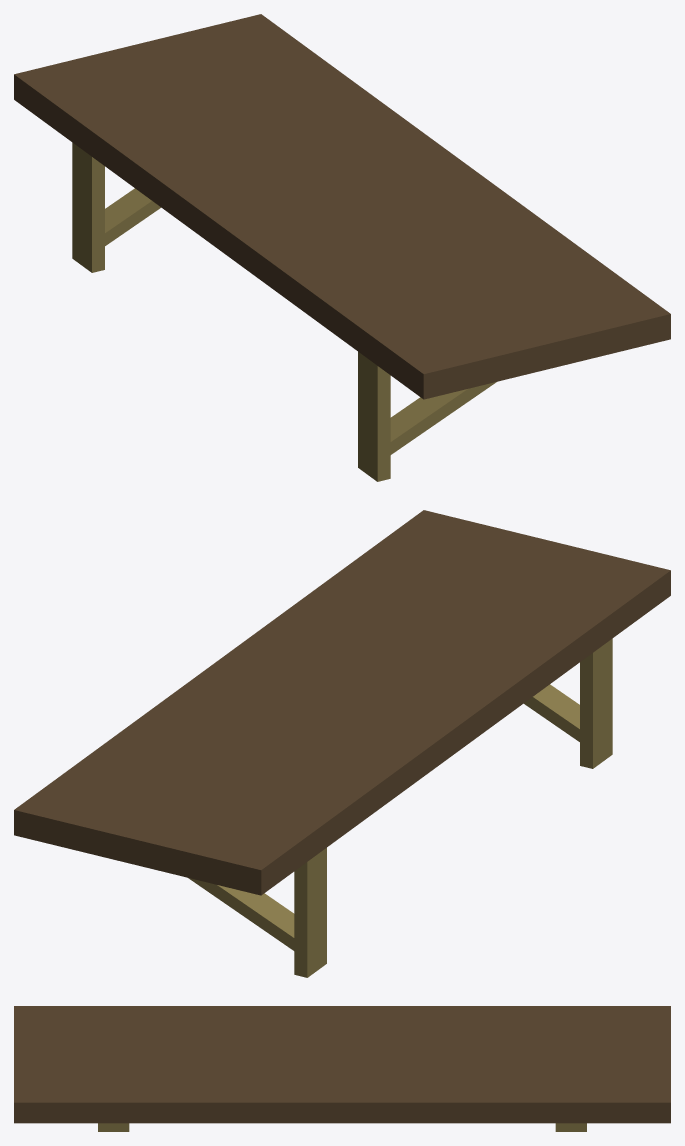
File: Shelf.glb
3 views of the same model, one above another, from view 1: azimuth 30°, elevation 25°; view 2: azimuth 150°, elevation 25°; view 3: azimuth 270°, elevation 25° (orthographic). The views are drawn at different scales.
Parts seen in each view (by area): view 1: Cube-Mesh, Cube-Mesh_1; view 2: Cube-Mesh, Cube-Mesh_1; view 3: Cube-Mesh, Cube-Mesh_1.
Part boxes in pixels (x1,y1,x2,y2): Cube-Mesh: [14, 14, 670, 399]; Cube-Mesh_1: [72, 142, 496, 481]; Cube-Mesh: [14, 510, 670, 895]; Cube-Mesh_1: [188, 638, 612, 977]; Cube-Mesh: [14, 1006, 670, 1123]; Cube-Mesh_1: [98, 1123, 586, 1131].
Bounding box in the file's own units: 0.8 × 0.4562 × 2.3.
